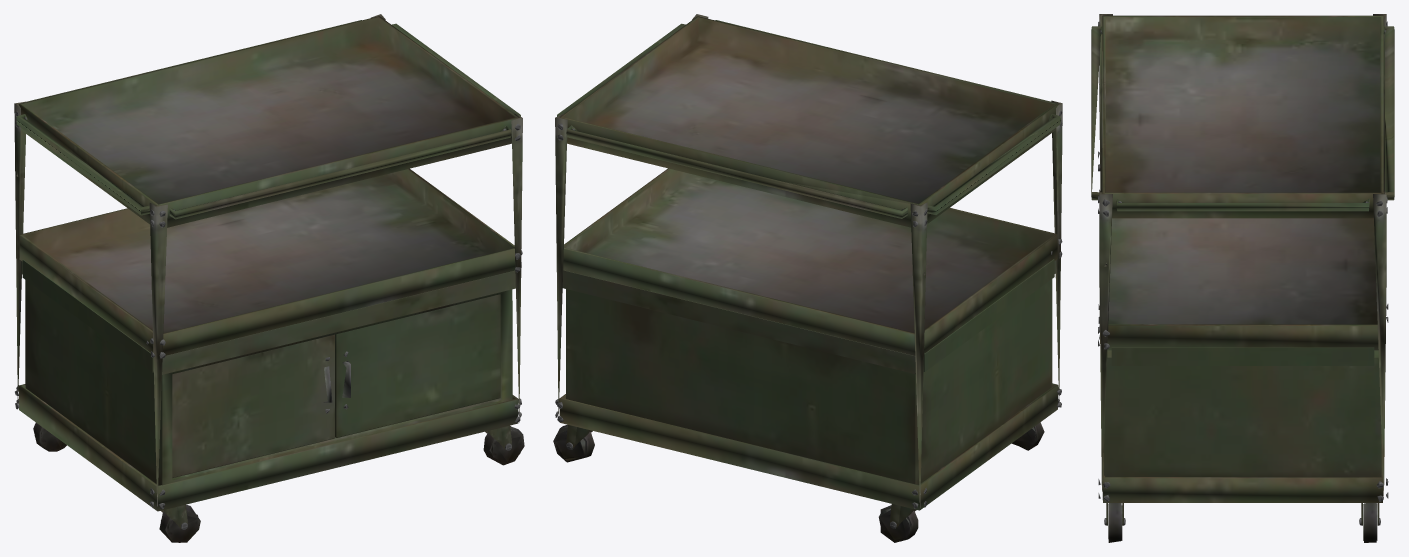
Rendered from industrial_storage_cart_lod1.glb.
The picture shows the model from 3 angles, left to right: view 1: azimuth 30°, elevation 25°; view 2: azimuth 150°, elevation 25°; view 3: azimuth 270°, elevation 25°; orthographic projection.
Visible parts, largest first — view 1: industrial_storage_cart; view 2: industrial_storage_cart; view 3: industrial_storage_cart.
Boxes of the visible parts, box(x1,y1,x2,y2) form: industrial_storage_cart: box(14, 14, 524, 542); industrial_storage_cart: box(553, 14, 1062, 542); industrial_storage_cart: box(1091, 14, 1394, 542).
Size of the model in its own units: 1.58 by 1.38 by 1.08.
Materials: 1 (1 with a texture image).
